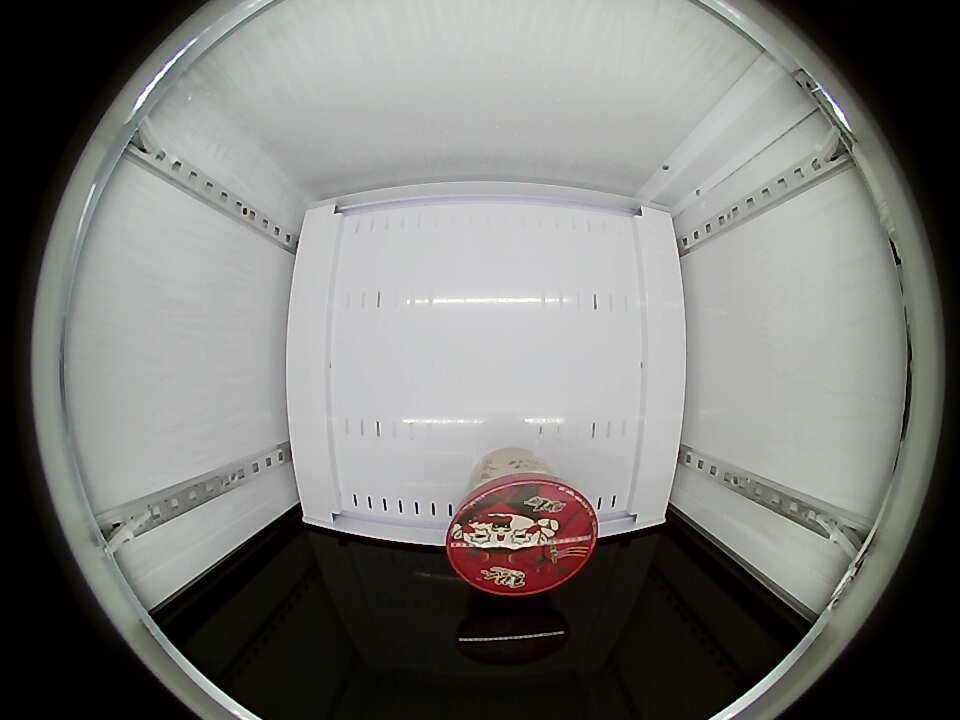suanlafen: (445, 468, 599, 595)
